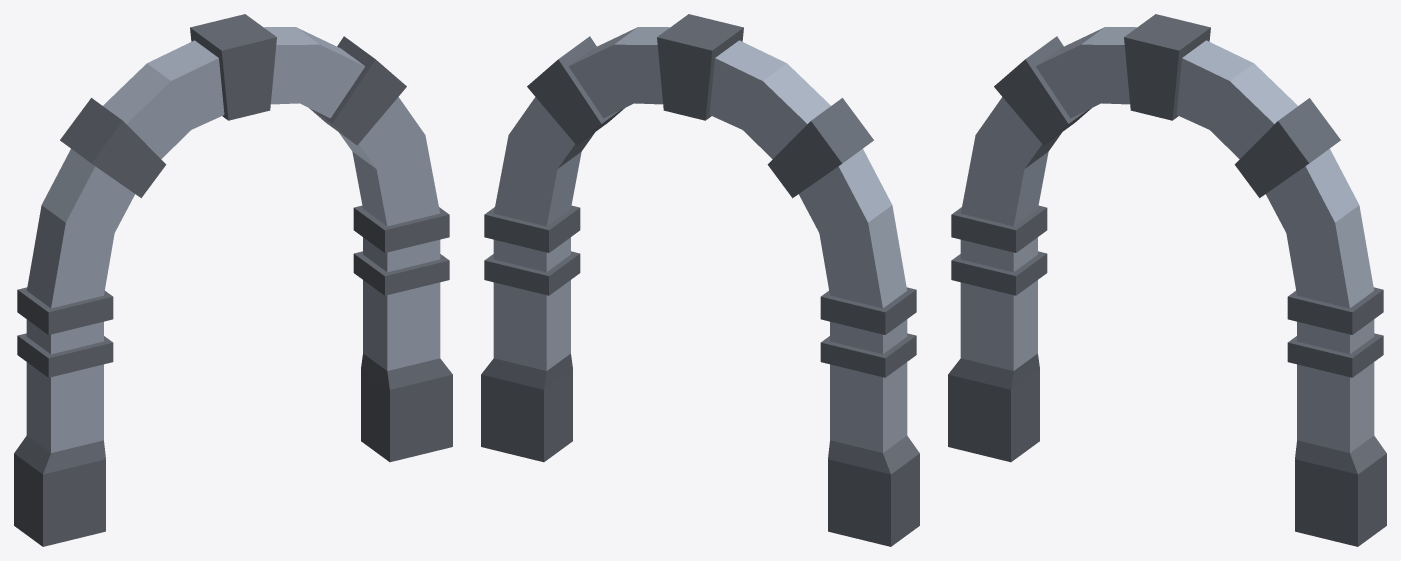
The model's file is WallArch.fbx.
3 renders of one model, left to right at view 1: azimuth 30°, elevation 25°; view 2: azimuth 150°, elevation 25°; view 3: azimuth 330°, elevation 25°, orthographic.
Visible parts, largest first — view 1: WallArch; view 2: WallArch; view 3: WallArch.
Boxes of the visible parts, box(x1,y1,x2,y2) form: WallArch: box(14, 14, 452, 546); WallArch: box(481, 14, 919, 546); WallArch: box(948, 14, 1386, 546).
Size of the model in its own units: 302 by 320 by 40.66.
